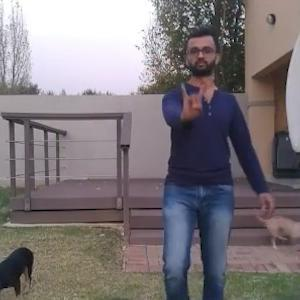takeoff-hand: (173, 78, 207, 126)
